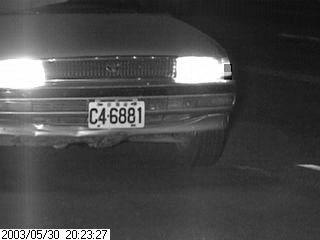plate: (86, 99, 147, 130)
